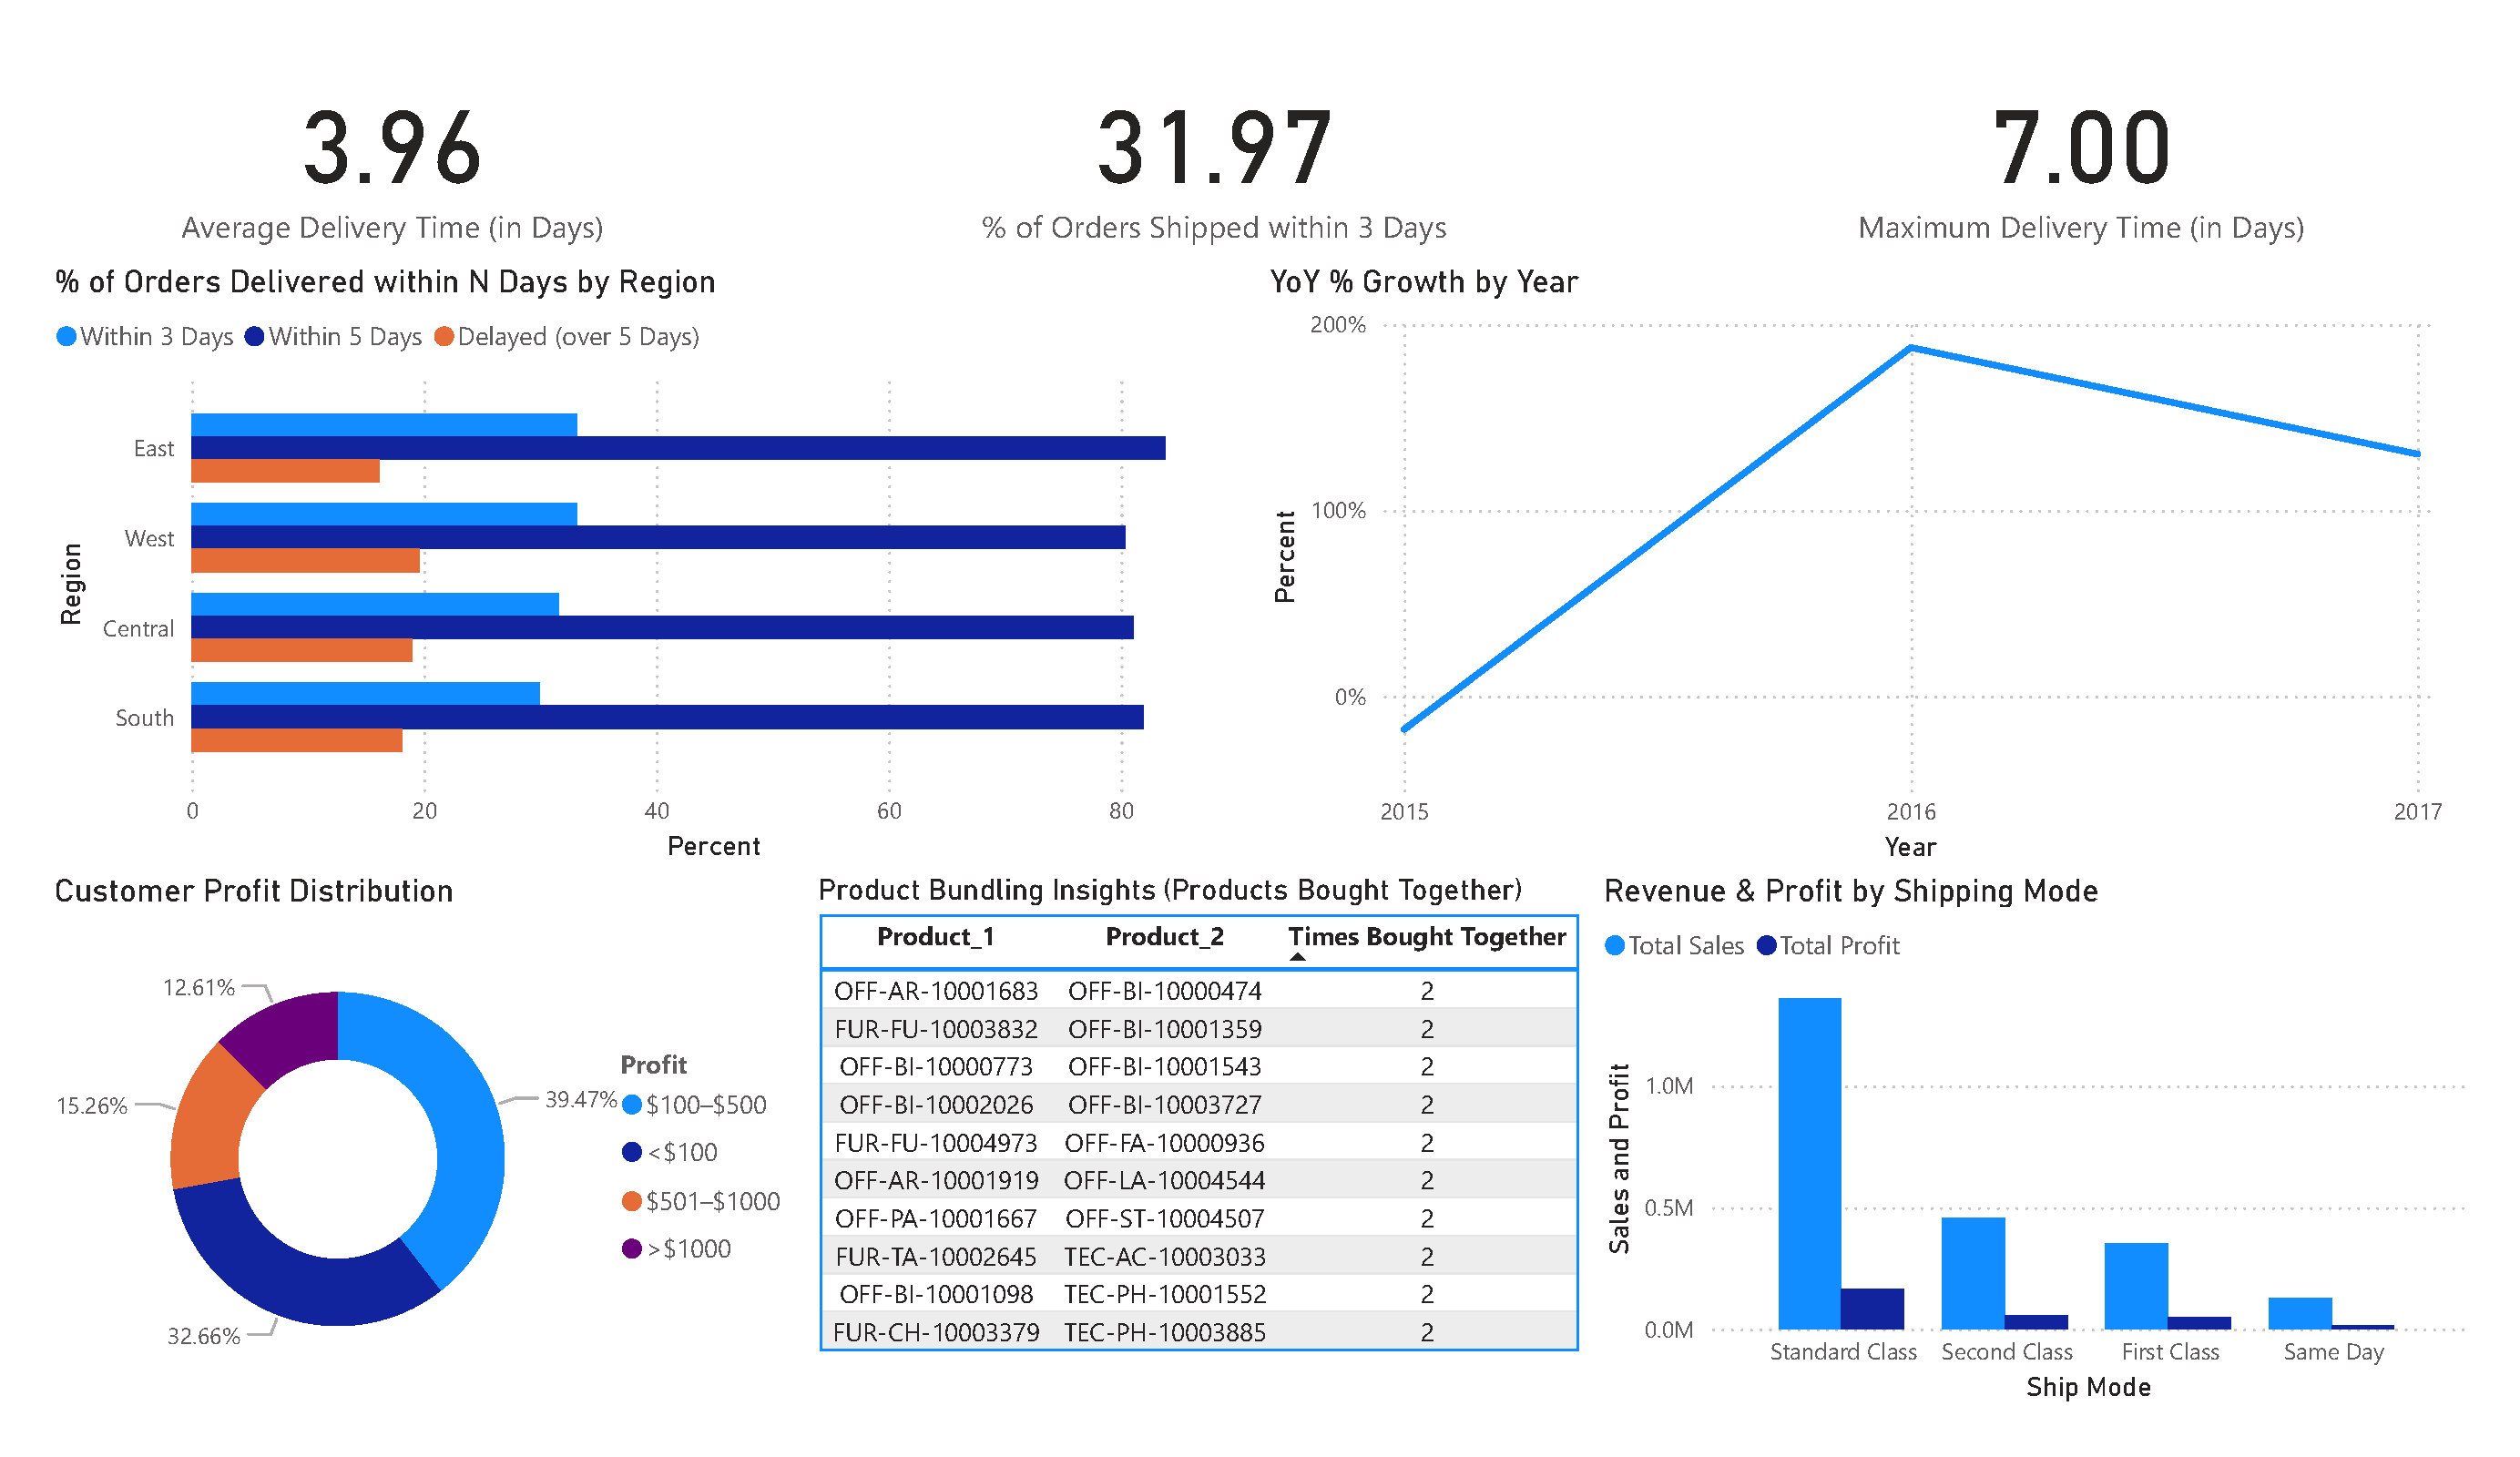

The dashboard page shown, as its layout file describes it:
{"tool":"powerbi","page":{"name":"Advanced Insights","canvas":[1280,720],"ordinal":2},"visuals":[{"type":"card","fields":{"Values":["Avg(Query1.Avg_Delivery_Days)"]},"box":[0,0,366,114],"z":0},{"type":"card","fields":{"Values":["Avg(Query3.Percent_Within_3_Days)"]},"box":[366,0,500,114],"z":1000},{"type":"card","fields":{"Values":["Avg(Query2.Max_Delivery_Days)"]},"box":[866,0,414,114],"z":2000},{"type":"lineChart","title":"YoY % Growth by Year","fields":{"Y":["Sum(Query4.YoY_Growth_Percent)"],"Category":["Query4.Year"]},"box":[640,114,628,321],"z":3000},{"type":"donutChart","title":"Customer Profit Distribution","fields":{"Y":["Avg(Query5.Customer_Count)"],"Category":["Query5.Profit_Bin"]},"box":[0,435,402,285],"z":4000},{"type":"clusteredBarChart","title":"% of Orders Delivered within N Days by Region","fields":{"Category":["Query3.Region"],"Y":["Avg(Query3.Percent_Within_3_Days)","Avg(Query3.Percent_Within_5_Days)","Avg(Query3.Percent_Delayed_Over_5_Days)"]},"box":[0,114,640,321],"z":5000},{"type":"tableEx","title":"Product Bundling Insights (Products Bought Together)","fields":{"Values":["Query6.Product_1","Query6.Product_2","Sum(Query6.Times_Bought_Together)"]},"box":[402,435,414,285],"z":6000},{"type":"clusteredColumnChart","title":"Revenue & Profit by Shipping Mode","fields":{"Category":["superstore orders.Ship_Mode"],"Y":["Sum(superstore orders.Sales)","Sum(superstore orders.Profit)"]},"box":[816,435,464,285],"z":7000}]}

Visuals, with their boxes in screenshot pixels (x1, y1, x2, y2):
card - Avg(Query1.Avg_Delivery_Days): (x1=46, y1=46, x2=740, y2=262)
card - Avg(Query3.Percent_Within_3_Days): (x1=740, y1=46, x2=1689, y2=262)
card - Avg(Query2.Max_Delivery_Days): (x1=1689, y1=46, x2=2474, y2=262)
"YoY % Growth by Year" lineChart: (x1=1260, y1=262, x2=2452, y2=871)
"Customer Profit Distribution" donutChart: (x1=46, y1=871, x2=809, y2=1411)
"% of Orders Delivered within N Days by Region" clusteredBarChart: (x1=46, y1=262, x2=1260, y2=871)
"Product Bundling Insights (Products Bought Together)" tableEx: (x1=809, y1=871, x2=1594, y2=1411)
"Revenue & Profit by Shipping Mode" clusteredColumnChart: (x1=1594, y1=871, x2=2474, y2=1411)
